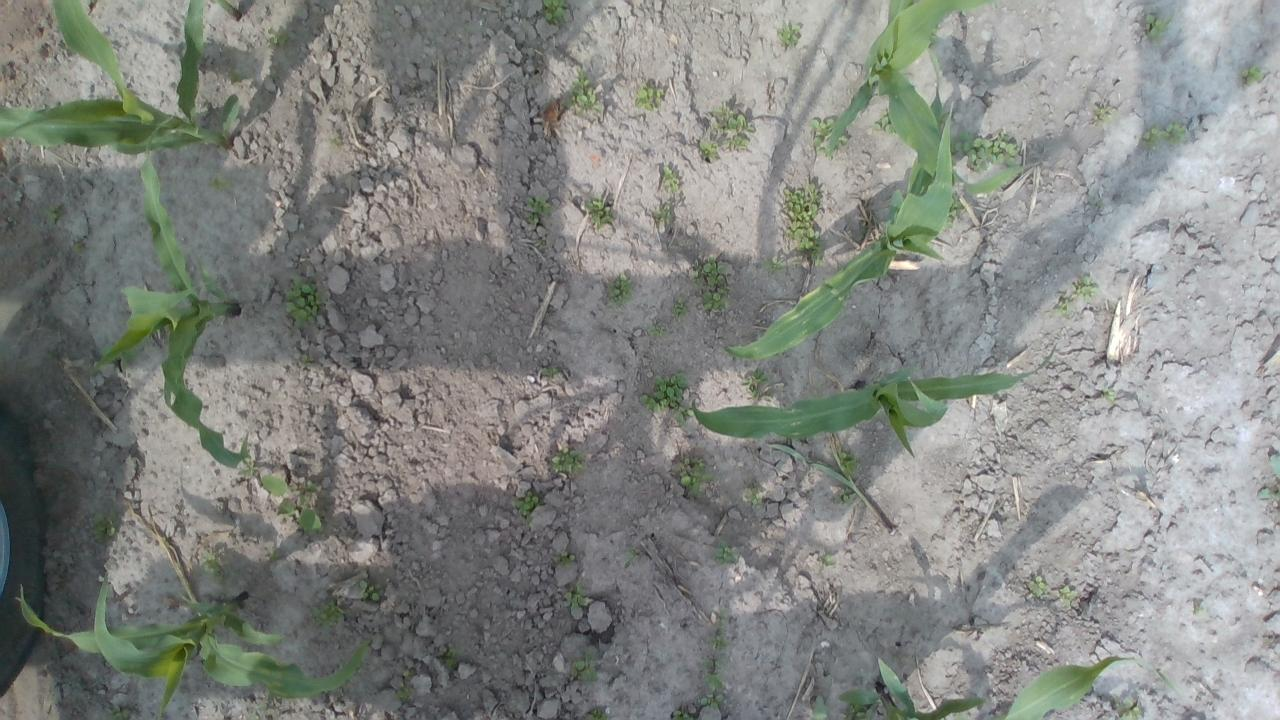Maize: (725, 50, 1040, 358), (92, 116, 248, 470), (16, 576, 371, 720), (0, 0, 241, 153), (694, 345, 1054, 445), (821, 0, 990, 160), (806, 652, 1179, 720), (771, 435, 892, 531), (208, 0, 241, 21)
Weeds: (778, 180, 826, 266), (260, 472, 324, 535), (950, 129, 1020, 174), (284, 270, 326, 329), (691, 253, 730, 313), (711, 103, 755, 152), (639, 372, 689, 415), (560, 68, 604, 114), (806, 116, 849, 160), (672, 456, 714, 498), (510, 490, 546, 528), (310, 598, 350, 630), (1142, 122, 1184, 150), (631, 82, 666, 115), (550, 444, 586, 476), (1257, 454, 1280, 501), (606, 271, 632, 310), (570, 648, 599, 682), (740, 367, 769, 401), (709, 608, 730, 651), (524, 194, 552, 226), (583, 193, 611, 224), (94, 511, 120, 544), (1144, 14, 1174, 42), (562, 579, 590, 608), (1071, 274, 1099, 301), (944, 194, 966, 228), (541, 0, 568, 27), (702, 655, 722, 689), (871, 110, 897, 136), (263, 22, 289, 48), (202, 550, 225, 579), (1238, 64, 1265, 88), (711, 543, 738, 567), (776, 22, 800, 48), (1088, 105, 1116, 127), (360, 579, 384, 604), (1116, 696, 1141, 720), (661, 166, 681, 194), (1058, 584, 1080, 609), (836, 449, 856, 475), (207, 175, 234, 194), (1026, 575, 1048, 598), (248, 700, 272, 720), (671, 294, 688, 322), (833, 485, 856, 505), (698, 140, 720, 160), (845, 702, 869, 720), (655, 202, 674, 224), (394, 684, 416, 703), (441, 647, 458, 671), (236, 458, 256, 478), (699, 694, 723, 710), (1053, 296, 1072, 316), (622, 544, 638, 567), (46, 204, 64, 224), (558, 550, 576, 570), (761, 256, 784, 271), (676, 406, 695, 424), (582, 707, 608, 720), (646, 323, 666, 338), (111, 705, 130, 720), (746, 488, 762, 505), (670, 709, 694, 720), (1101, 384, 1115, 401), (821, 552, 834, 568), (70, 242, 86, 255), (542, 367, 560, 378), (227, 68, 241, 81), (928, 26, 938, 44), (327, 134, 339, 146), (270, 548, 280, 562), (1194, 606, 1206, 617), (0, 63, 7, 74)
